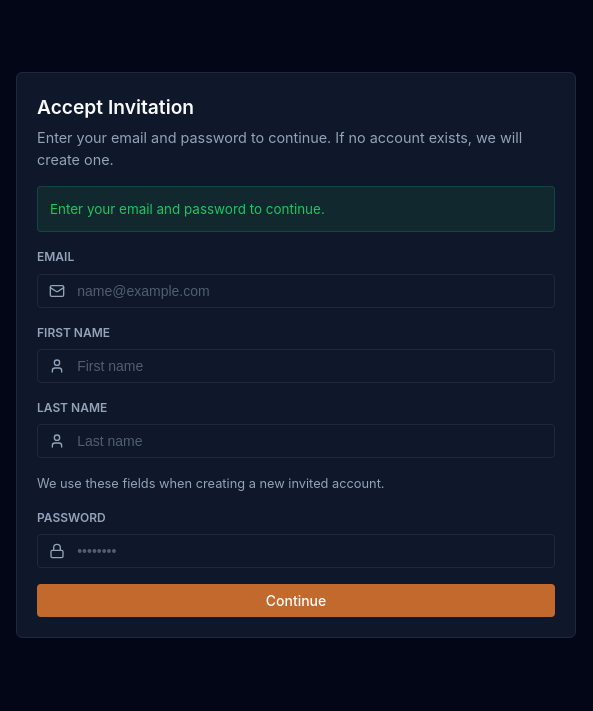
AcceptInvitation › shows resend button only in confirm mode
Expected: the button "resend code" is not shown
Type "invitee@example.com" into the field labelled "Email". click: [296, 291]
box: [37, 274, 555, 308]
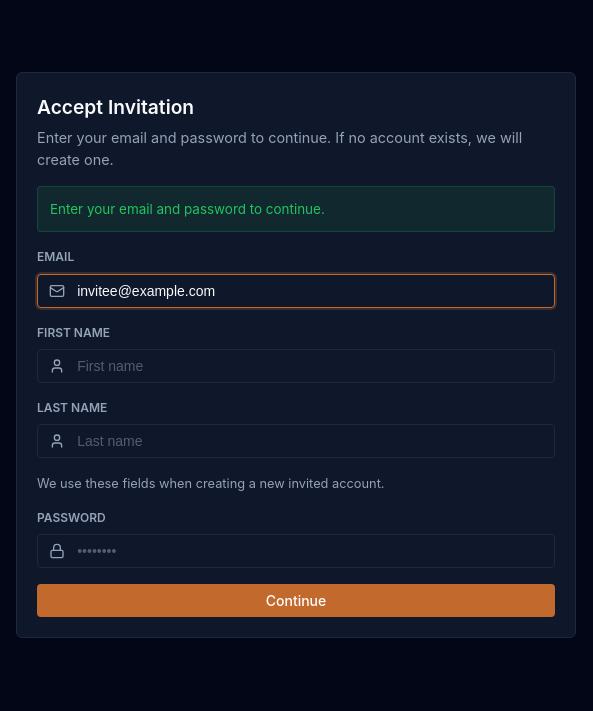
Type "Invitee" into the field labelled "First Name". click: [296, 366]
box: [37, 349, 555, 383]
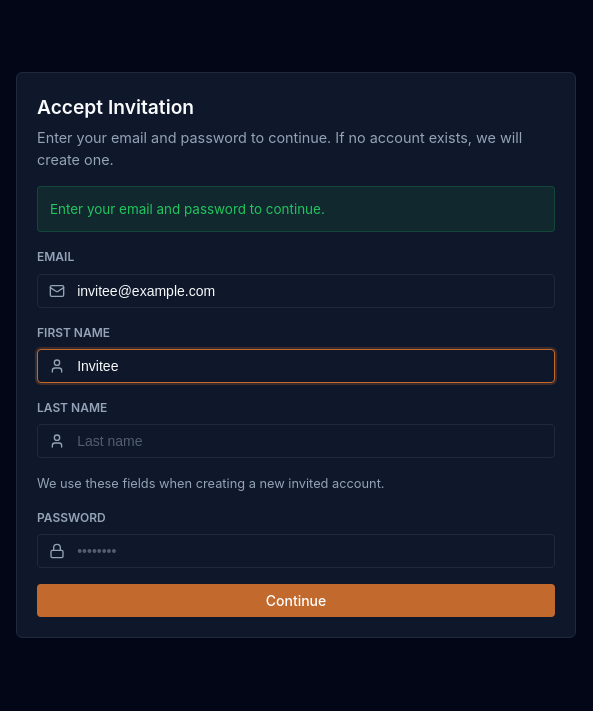
Type "Test" into the field labelled "Last Name". click: [296, 441]
box: [37, 424, 555, 458]
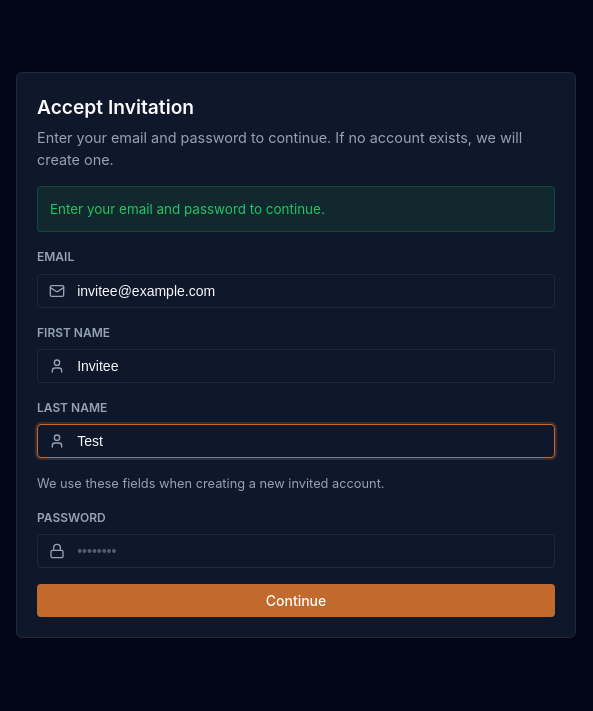
Type "TestPass123!" into the password field labelled "Password". click: [296, 551]
box: [37, 534, 555, 568]
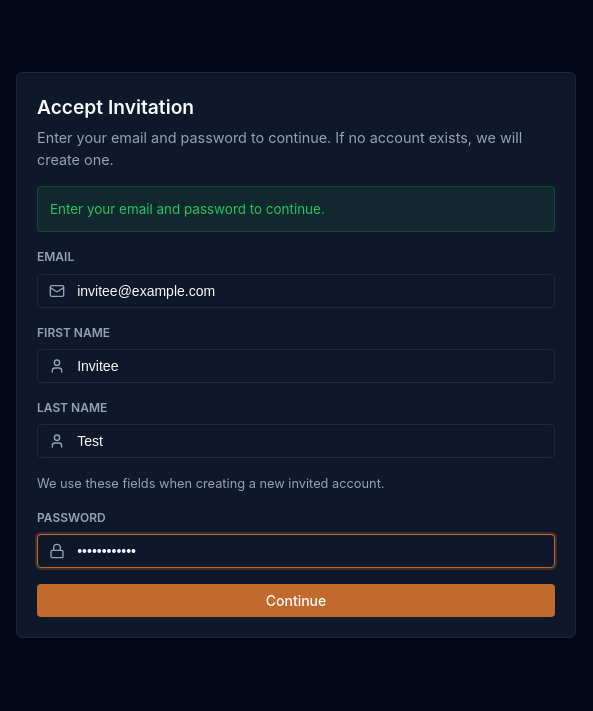
Click the button "Continue". click: [296, 601]
box: [37, 584, 555, 617]
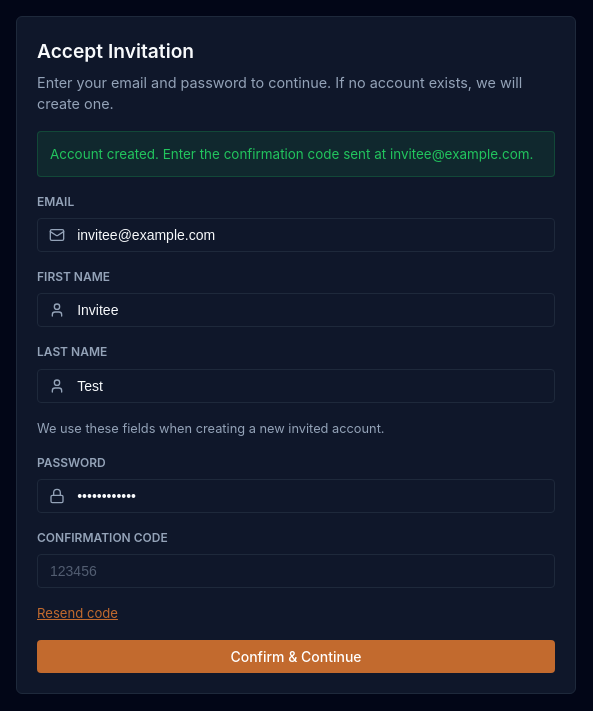
Result: the button "Resend code" is shown at [37, 605, 118, 621]
